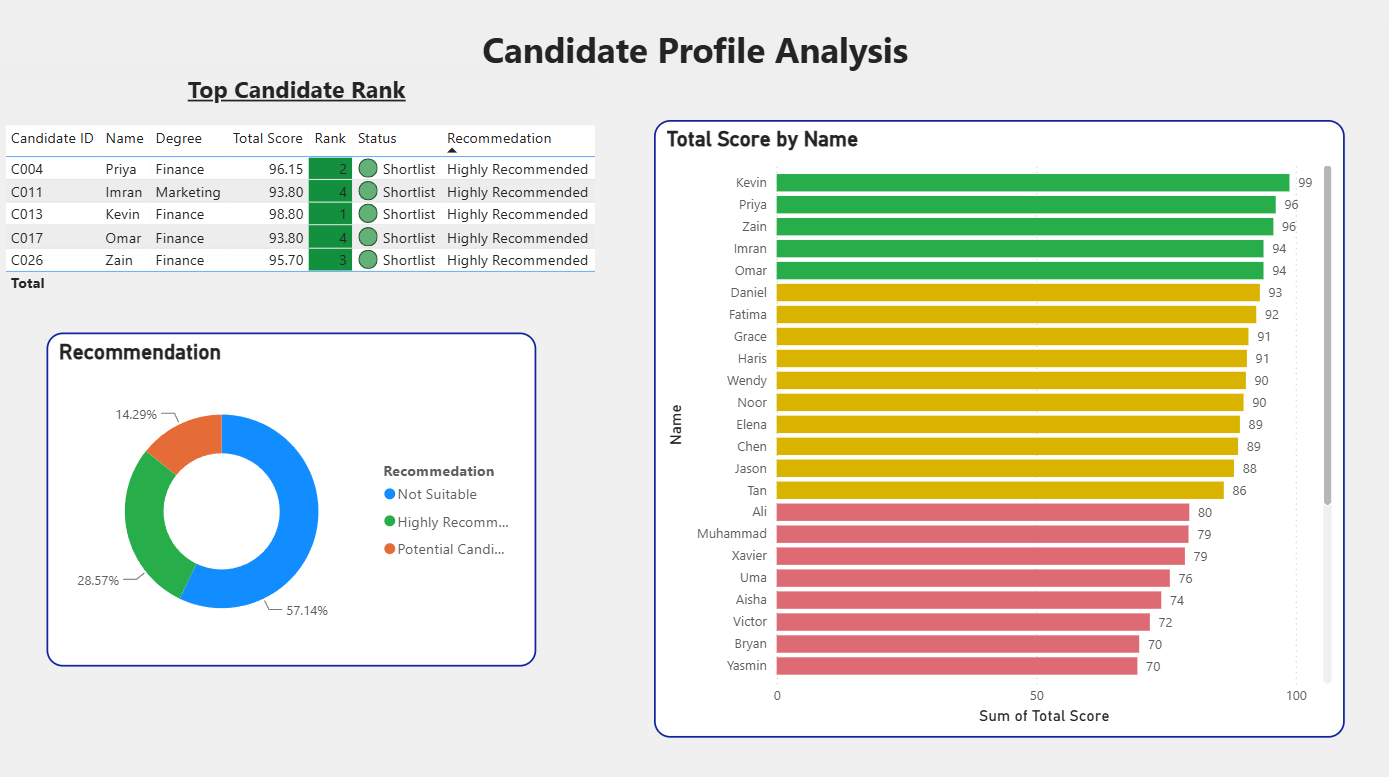

This screenshot's page, from the dashboard's own definition file:
{"tool":"powerbi","page":{"name":"Page 2","canvas":[1280,720],"ordinal":1},"visuals":[{"type":"tableEx","fields":{"Values":["Sheet1.Candidate ID","Sheet1.Name","Sheet1.Degree","Sheet1.Total Score","Sheet1.Rank","Sheet1.Status","Sheet1.Recommedation"]},"box":[0,109.8,561.2,196.2],"z":0},{"type":"textbox","box":[0,17.8,1280.3,56.3],"z":1},{"type":"barChart","title":"Total Score by Name","fields":{"Category":["Sheet1.Name"],"Y":["Sum(Sheet1.Total Score)"]},"box":[602.4,109.8,635.3,568.1],"z":2},{"type":"donutChart","title":"Recommendation","fields":{"Y":["CountNonNull(Sheet1.Candidate ID)"],"Category":["Sheet1.Recommedation"]},"box":[43.9,306,450.1,307.4],"z":4},{"type":"textbox","box":[0,61.7,547.5,57.6],"z":5}]}

Visuals, with their boxes in screenshot pixels (x1, y1, x2, y2), scaled from the page's 1280x720 canvas onto the 1389x777 screenshot:
tableEx - Sheet1.Candidate ID x Sheet1.Name: bbox(0, 118, 609, 330)
textbox: bbox(0, 19, 1388, 80)
"Total Score by Name" barChart: bbox(654, 118, 1343, 732)
"Recommendation" donutChart: bbox(48, 330, 536, 662)
textbox: bbox(0, 67, 594, 129)
